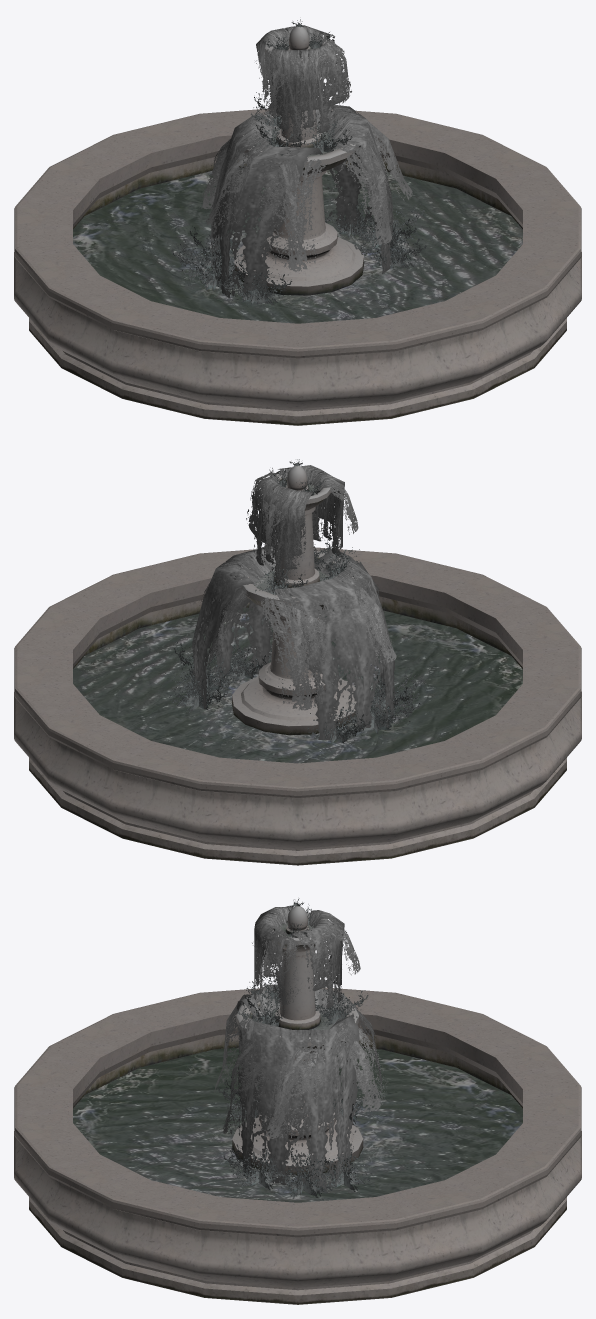
File: fountain.glb
The picture shows the model from 3 angles, top to bottom: view 1: azimuth 30°, elevation 25°; view 2: azimuth 150°, elevation 25°; view 3: azimuth 270°, elevation 25°; orthographic projection.
Visible parts, largest first — view 1: fountain, Plane001, Plane009, Plane008, Plane007, Plane006, Plane010, Plane005, Plane013; view 2: fountain, Plane001, Plane009, Plane005, Plane007, Plane010, Plane006, Plane008, Plane015; view 3: fountain, Plane007, Plane006, Plane005, Plane014, Plane013.
Boxes of the visible parts, box(x1,y1,x2,y2) form: fountain: box(14, 19, 581, 425); Plane001: box(199, 139, 257, 227); Plane009: box(171, 243, 247, 296); Plane008: box(218, 265, 292, 306); Plane007: box(351, 202, 424, 249); Plane006: box(354, 228, 426, 271); Plane010: box(176, 226, 242, 270); Plane005: box(324, 196, 374, 237); Plane013: box(300, 114, 352, 154); fountain: box(14, 459, 581, 865); Plane001: box(250, 587, 396, 710); Plane009: box(342, 678, 421, 737); Plane005: box(168, 663, 235, 715); Plane007: box(172, 640, 251, 694); Plane010: box(306, 706, 370, 746); Plane006: box(214, 637, 272, 684); Plane008: box(367, 667, 422, 711); Plane015: box(314, 547, 361, 580); fountain: box(14, 902, 581, 1304); Plane007: box(258, 1139, 335, 1201); Plane006: box(223, 1142, 287, 1192); Plane005: box(308, 1141, 373, 1193); Plane014: box(314, 990, 368, 1026); Plane013: box(237, 990, 287, 1026).
Size of the model in its own units: 6.2 by 3.46 by 6.11.
Materials: 5 (5 with a texture image).
